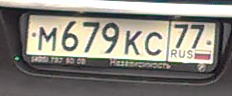character: (81, 17, 101, 55), (101, 21, 121, 56), (61, 19, 81, 53), (143, 28, 165, 58), (124, 28, 144, 57), (37, 26, 59, 52), (172, 22, 189, 50), (190, 22, 206, 50)
